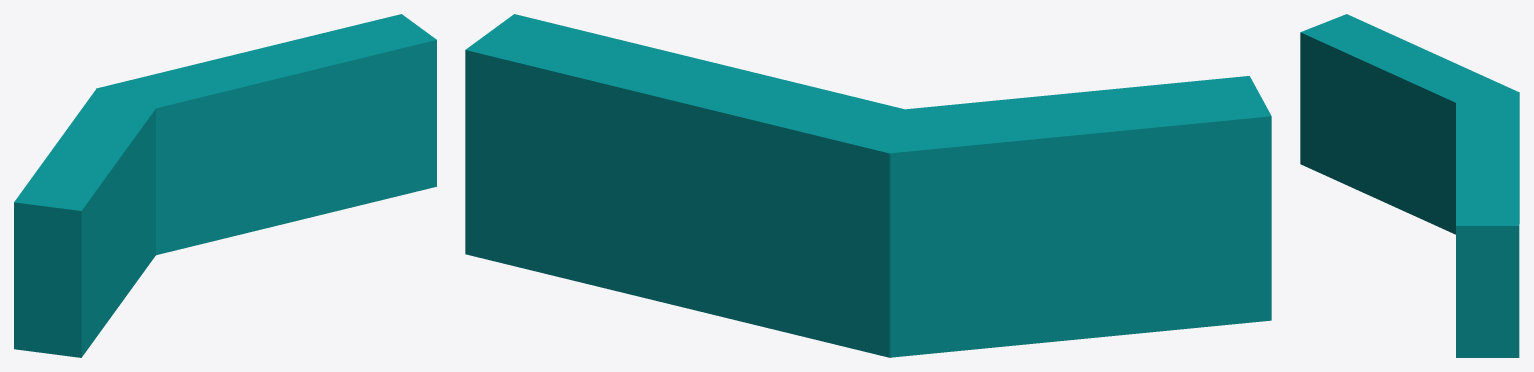
The model's file is dedo_garra.gltf.
The picture shows the model from 3 angles, left to right: view 1: azimuth 30°, elevation 25°; view 2: azimuth 150°, elevation 25°; view 3: azimuth 270°, elevation 25°; orthographic projection. The views are drawn at different scales.
Parts seen in each view (by area): view 1: Cubo.001, Cubo.002; view 2: Cubo.001, Cubo.002; view 3: Cubo.002, Cubo.001.
Part boxes in pixels (<box>): Cubo.001: <box>96,14,436,255</box>; Cubo.002: <box>14,88,163,357</box>; Cubo.001: <box>465,14,938,357</box>; Cubo.002: <box>867,76,1271,357</box>; Cubo.002: <box>1300,14,1519,234</box>; Cubo.001: <box>1456,92,1519,357</box>.
Size of the model in its own units: 1.58 by 0.4594 by 0.6915.
